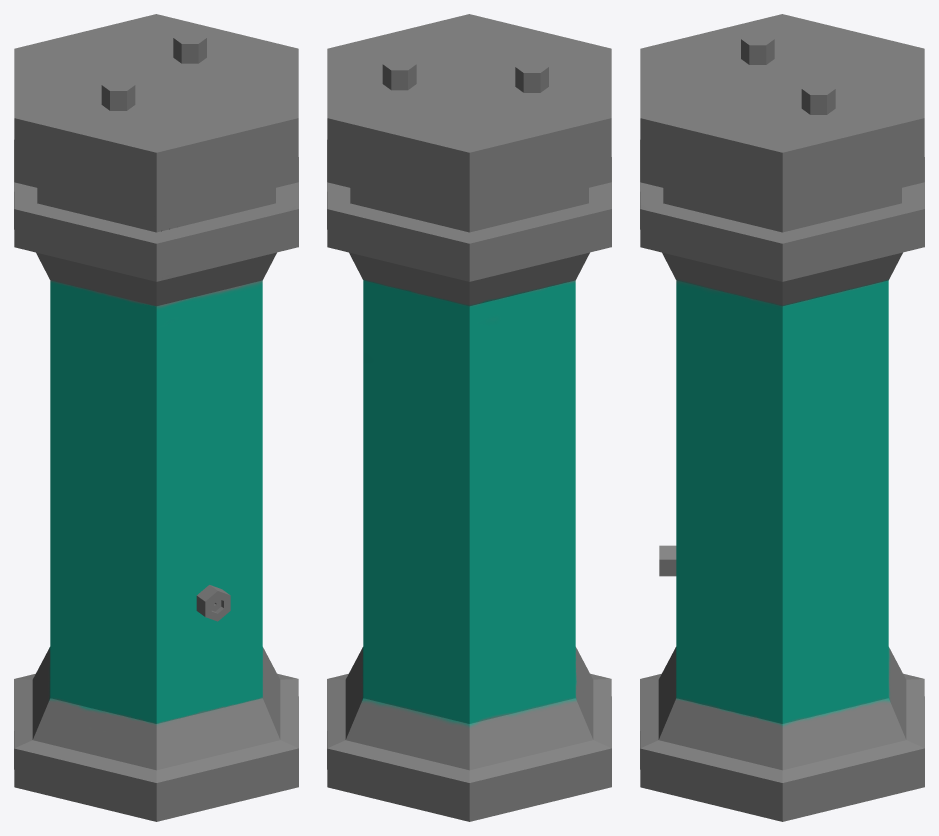
Rendered from VirusChamber.fbx.
3 views of the same model, side by side, from view 1: azimuth 30°, elevation 25°; view 2: azimuth 150°, elevation 25°; view 3: azimuth 270°, elevation 25° (orthographic).
Parts seen in each view (by area): view 1: Cylinder; view 2: Cylinder; view 3: Cylinder.
Boxes of the visible parts, <box> form: Cylinder: <box>14,14,298,821</box>; Cylinder: <box>327,14,611,821</box>; Cylinder: <box>640,14,924,821</box>.
Size of the model in its own units: 268 by 620 by 232.
